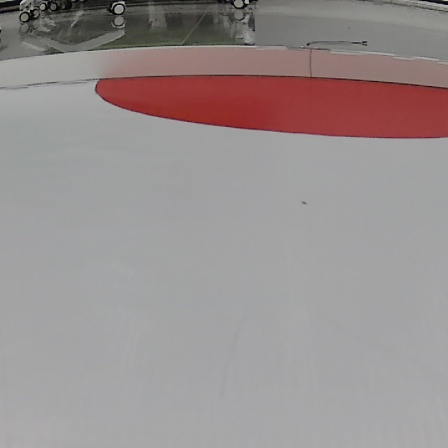red_base: (94, 66, 448, 143)
